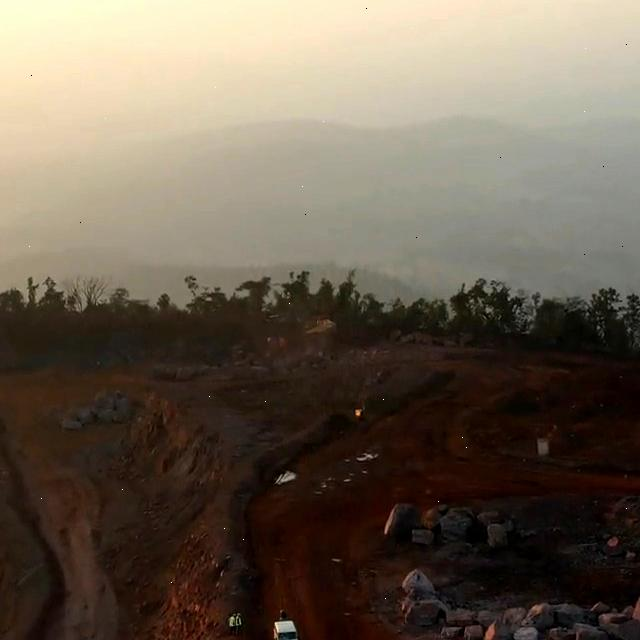car: (273, 615, 299, 640)
person: (236, 613, 244, 632), (230, 614, 237, 633)
